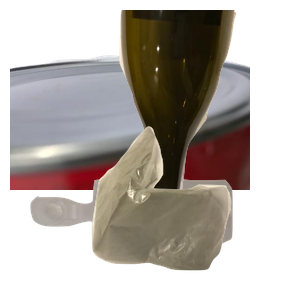glass: (117, 10, 300, 190)
metal: (10, 52, 250, 232)
plastic: (28, 176, 253, 300)
trash: (89, 124, 300, 300)
